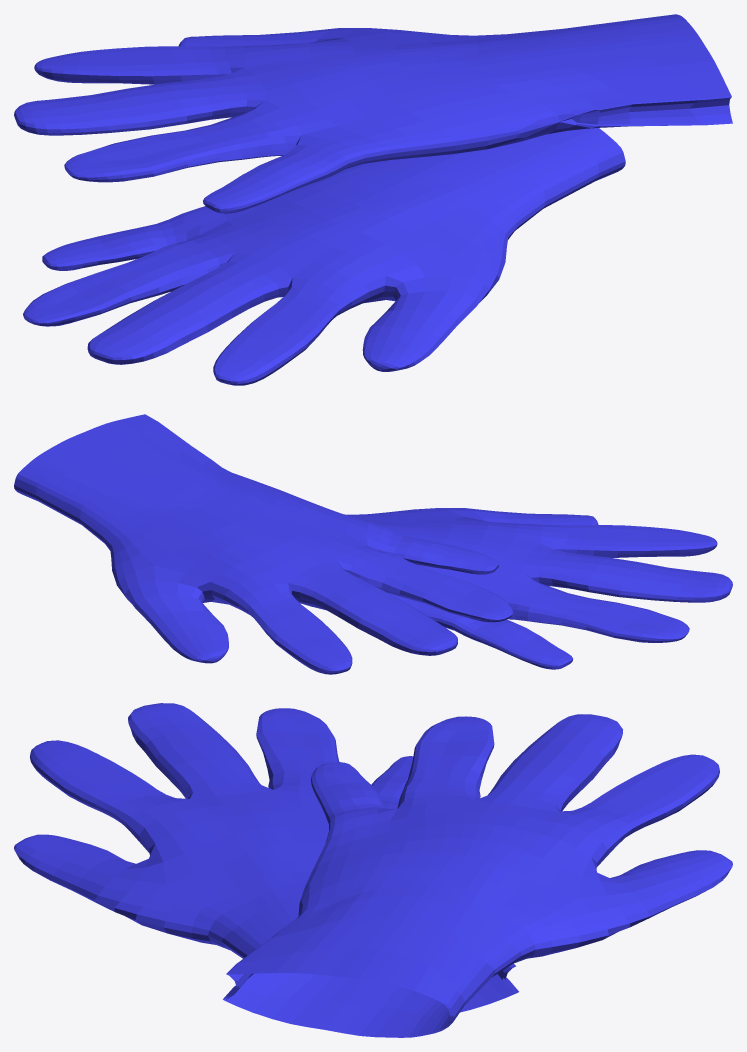
The model's file is gloves.glb.
The picture shows the model from 3 angles, top to bottom: view 1: azimuth 30°, elevation 25°; view 2: azimuth 150°, elevation 25°; view 3: azimuth 270°, elevation 25°; orthographic projection. The views are drawn at different scales.
Visible parts, largest first — view 1: Lglove, R-glove; view 2: Lglove, R-glove; view 3: Lglove, R-glove.
Part boxes in pixels (x1,y1,x2,y2): Lglove: [14, 14, 732, 213]; R-glove: [23, 128, 625, 385]; Lglove: [14, 414, 513, 674]; R-glove: [296, 508, 732, 669]; Lglove: [223, 714, 732, 1037]; R-glove: [14, 703, 518, 1012].
Size of the model in its own units: 0.3055 by 0.0447 by 0.2498.
